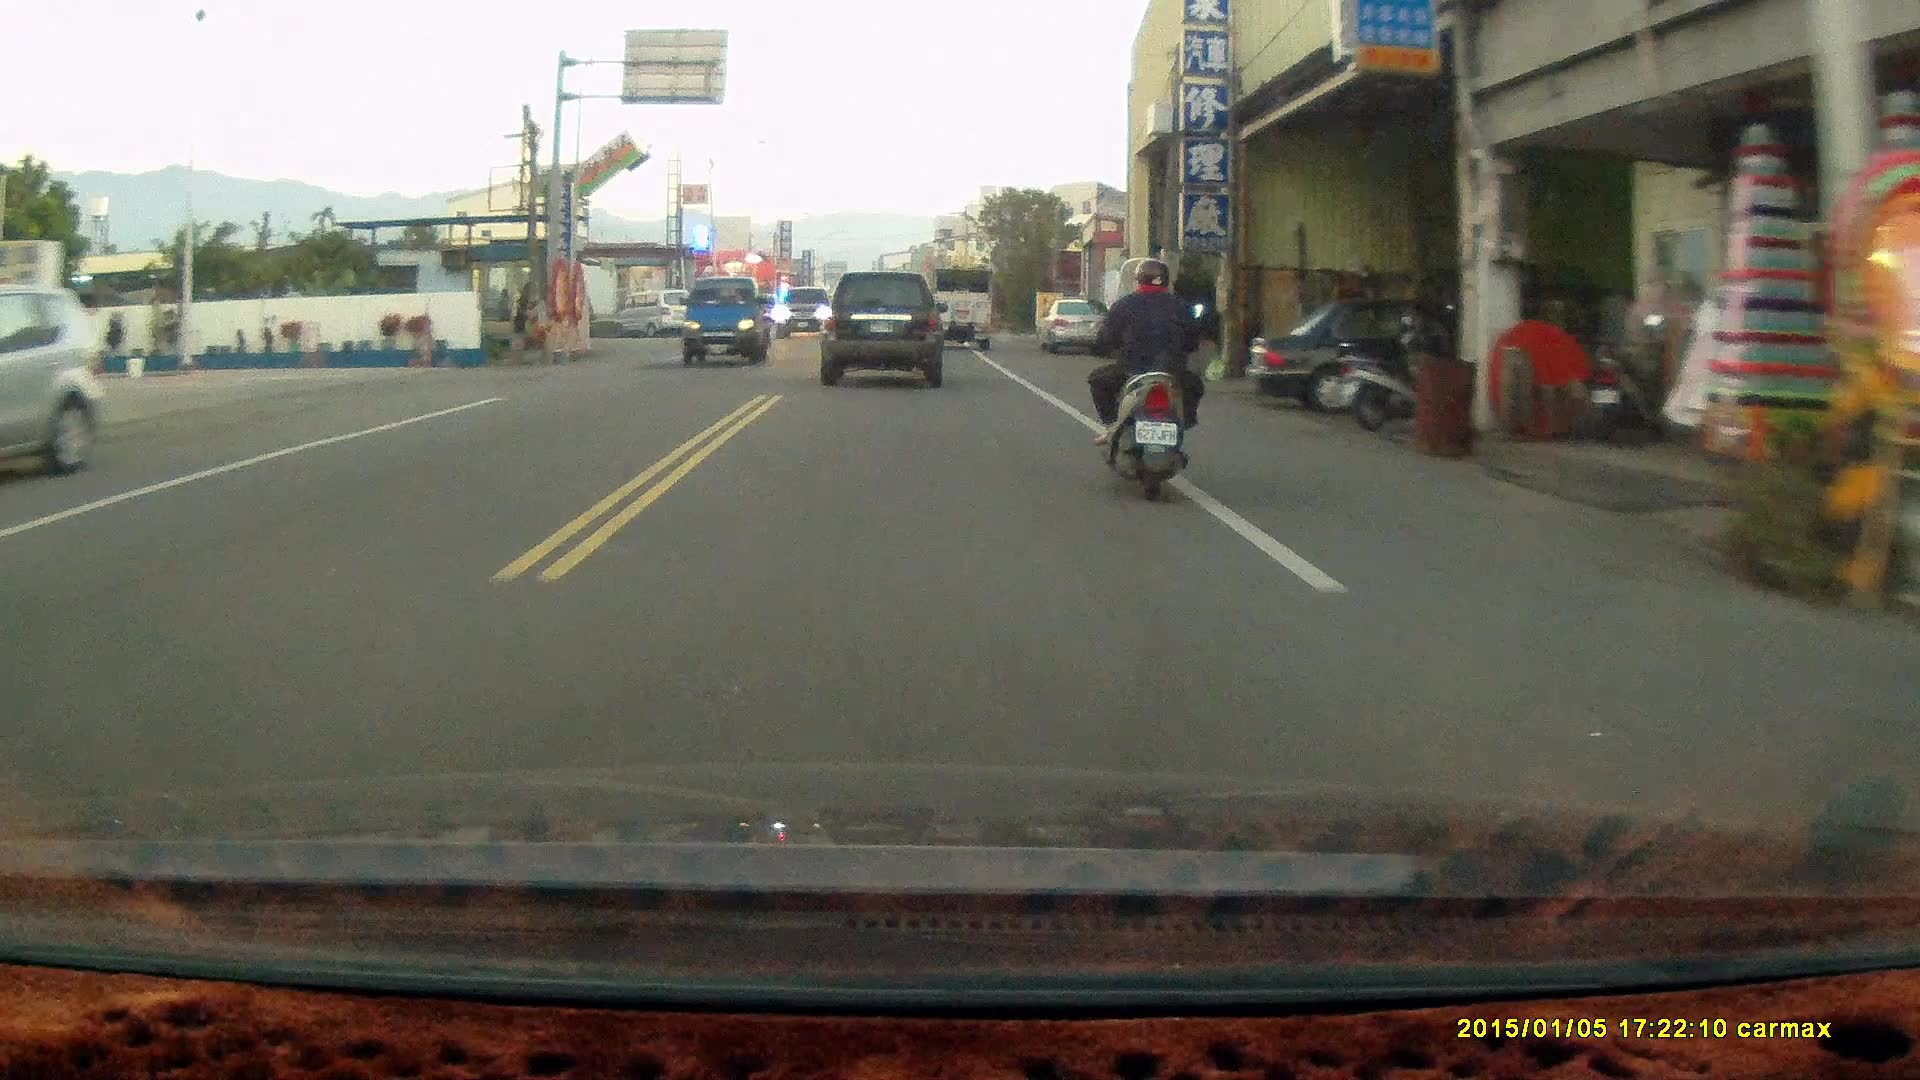rider: (1088, 255, 1206, 502)
vehicle: (1239, 288, 1529, 413), (1, 284, 108, 489), (823, 270, 946, 386), (682, 275, 777, 365), (926, 267, 996, 351), (1042, 295, 1117, 357), (613, 290, 699, 338)
